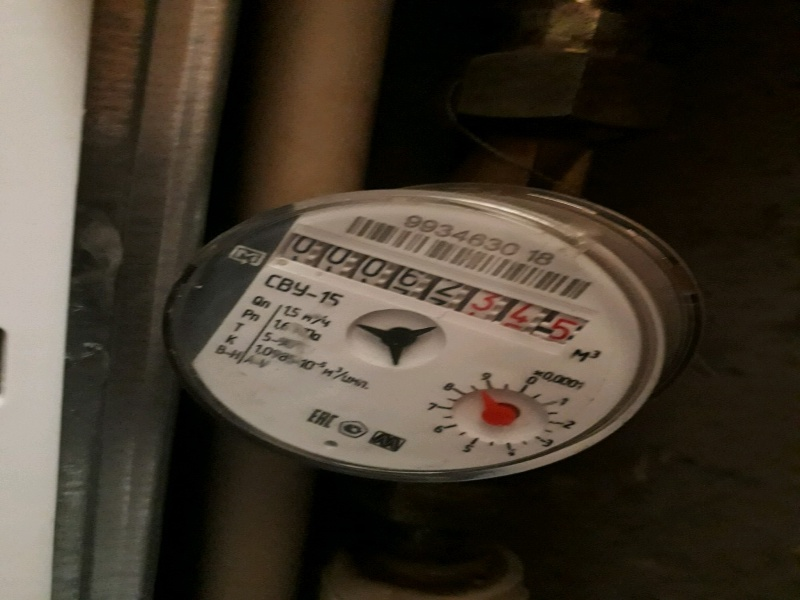dial: (291, 237, 570, 335)
